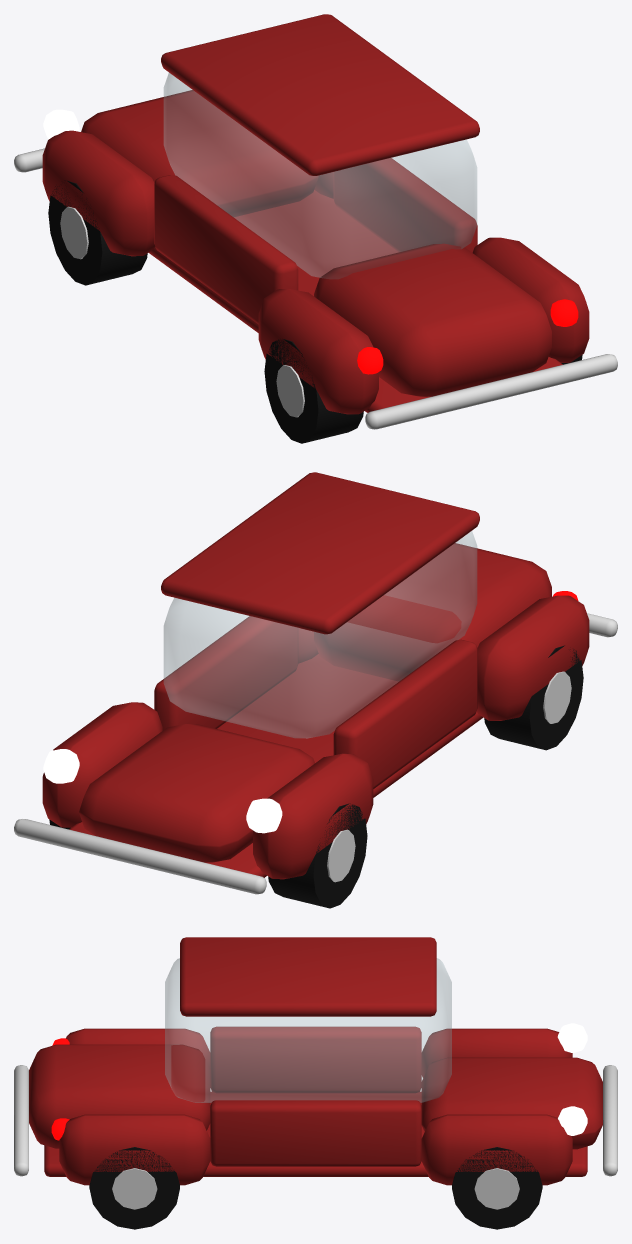
File: fusca.glb
The picture shows the model from 3 angles, top to bottom: view 1: azimuth 30°, elevation 25°; view 2: azimuth 150°, elevation 25°; view 3: azimuth 270°, elevation 25°; orthographic projection. The views are drawn at different scales.
Visible parts, largest first — view 1: Veiculo_Fusca, Porta_L, Porta_R, Roda_BL, Roda_FL; view 2: Veiculo_Fusca, Porta_L, Porta_R, Roda_FL, Roda_BL; view 3: Veiculo_Fusca, Porta_L, Porta_R, Roda_FR, Roda_BR.
Part boxes in pixels (bbox=[...]): Veiculo_Fusca: bbox=[14, 14, 617, 429]; Porta_L: bbox=[154, 175, 298, 324]; Porta_R: bbox=[333, 158, 477, 252]; Roda_BL: bbox=[264, 339, 363, 443]; Roda_FL: bbox=[48, 180, 147, 285]; Veiculo_Fusca: bbox=[14, 472, 617, 894]; Porta_L: bbox=[333, 639, 477, 788]; Porta_R: bbox=[154, 616, 298, 730]; Roda_FL: bbox=[268, 803, 367, 908]; Roda_BL: bbox=[484, 645, 583, 750]; Veiculo_Fusca: bbox=[14, 937, 617, 1185]; Porta_L: bbox=[210, 1026, 421, 1093]; Porta_R: bbox=[210, 1100, 421, 1166]; Roda_FR: bbox=[452, 1147, 542, 1229]; Roda_BR: bbox=[89, 1147, 179, 1229].
Size of the model in its own units: 1.72 by 1.5 by 4.
